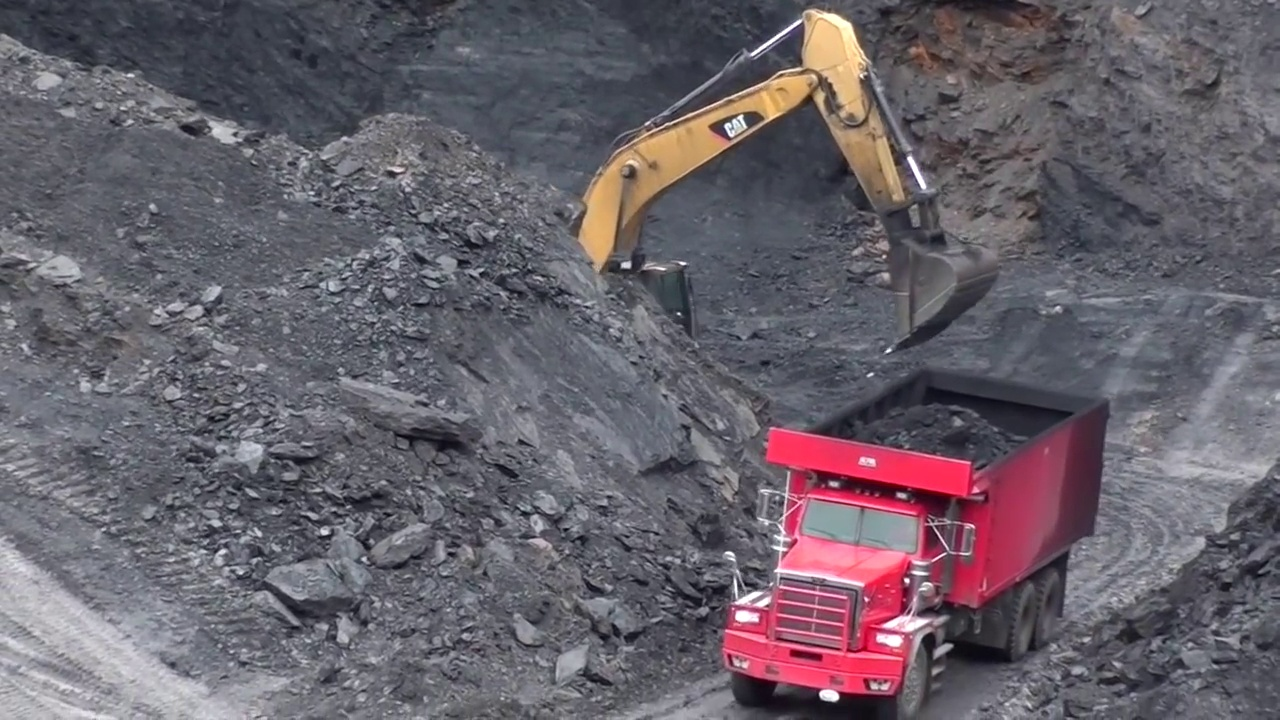excavator: (567, 9, 1003, 356)
truck: (718, 369, 1116, 720)
